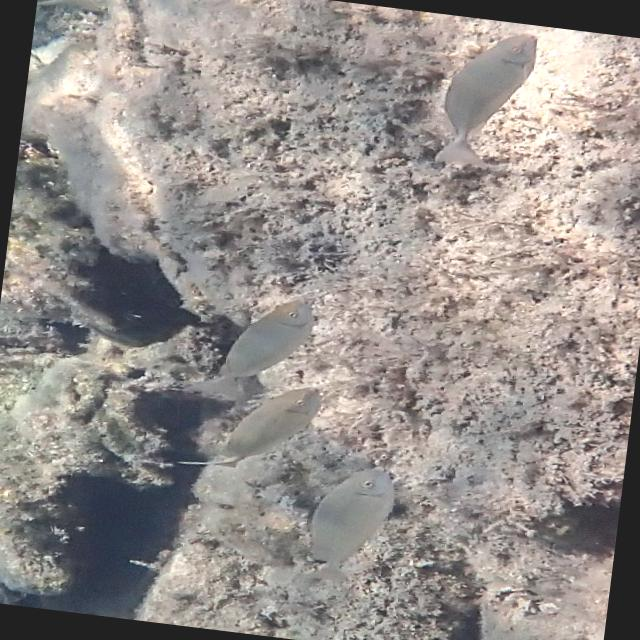Sokar Baligi: (393, 9, 566, 191), (272, 450, 422, 608)
